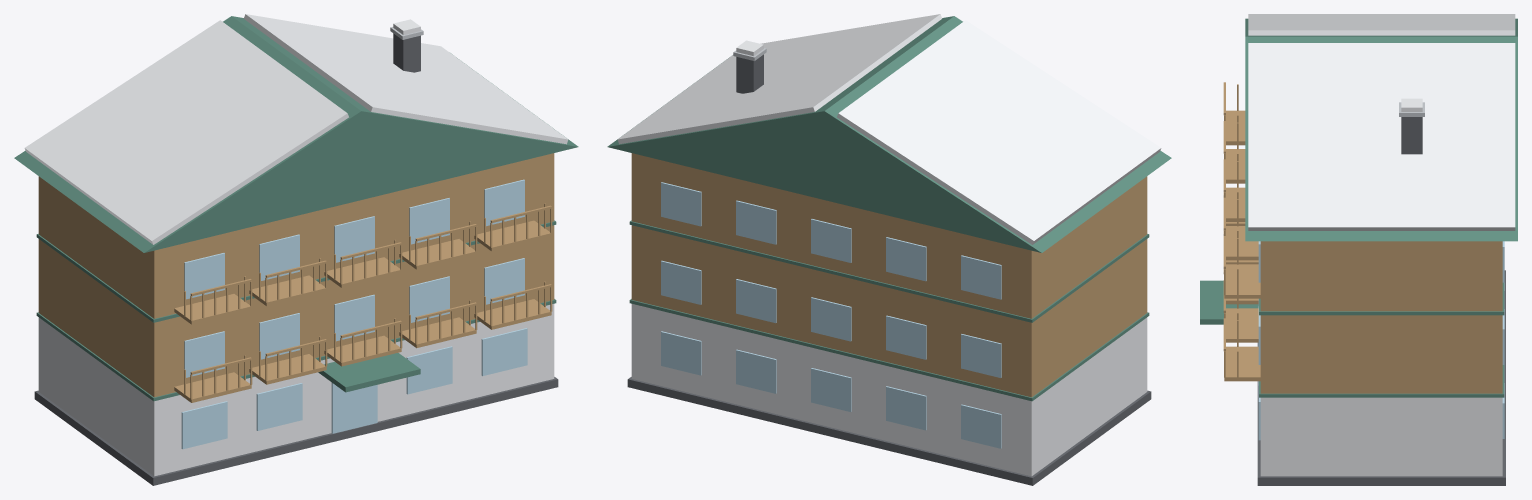
Rendered from ski-resort-and-snow-park-hotel-wing-b6ad4004__25998.glb.
3 renders of one model, left to right at view 1: azimuth 30°, elevation 25°; view 2: azimuth 150°, elevation 25°; view 3: azimuth 270°, elevation 25°, orthographic. The views are drawn at different scales.
Parts seen in each view (by area): view 1: hotel-wing; view 2: hotel-wing; view 3: hotel-wing.
Boxes of the visible parts, x1,y1,x2,y2 form: hotel-wing: [14, 14, 578, 485]; hotel-wing: [607, 14, 1171, 485]; hotel-wing: [1200, 14, 1517, 485].
Bounding box in the file's own units: 17.4 × 12.6 × 10.5.
